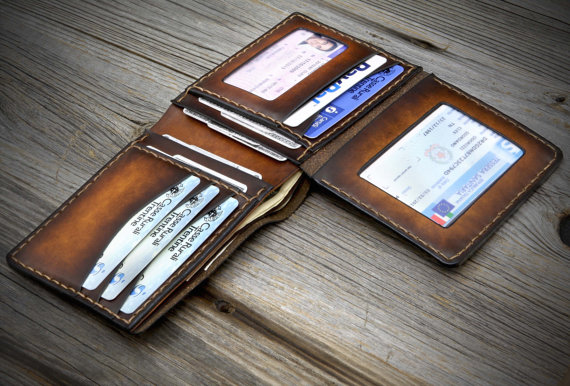monedero: (5, 9, 566, 346)
